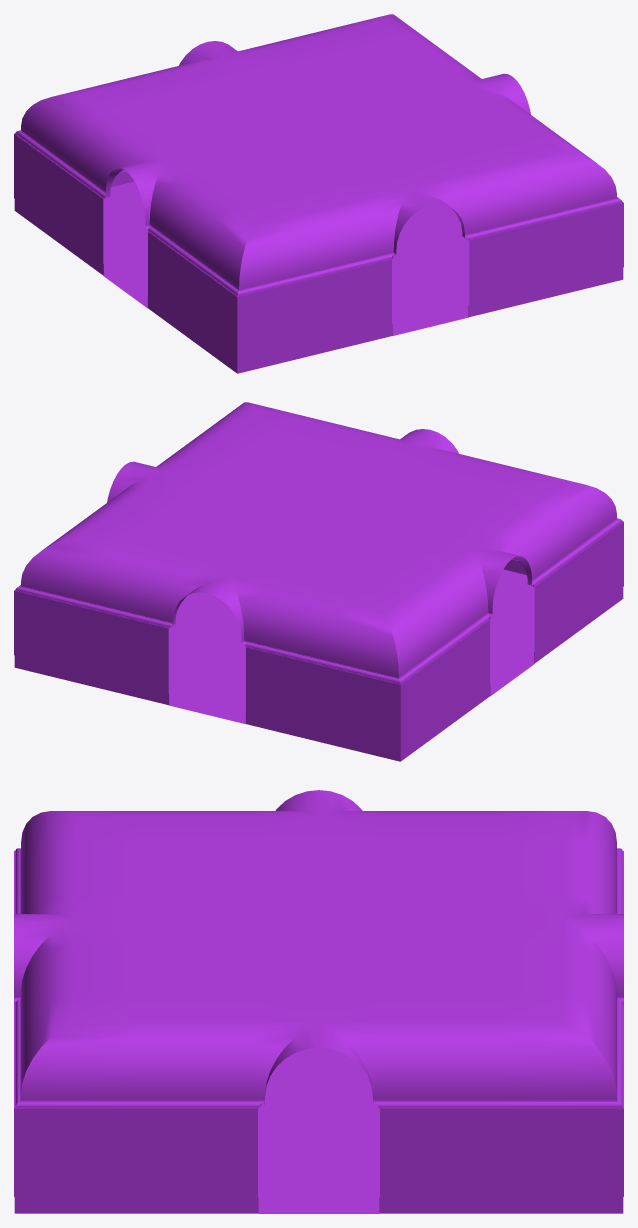
File: Arena1.fbx
The picture shows the model from 3 angles, top to bottom: view 1: azimuth 30°, elevation 25°; view 2: azimuth 150°, elevation 25°; view 3: azimuth 270°, elevation 25°; orthographic projection. The views are drawn at different scales.
Visible parts, largest first — view 1: Grande salle var; view 2: Grande salle var; view 3: Grande salle var.
Part boxes in pixels (<box>): Grande salle var: <box>14,14,623,373</box>; Grande salle var: <box>14,402,623,761</box>; Grande salle var: <box>14,790,623,1213</box>.
Size of the model in its own units: 4000 by 1202 by 4000.
